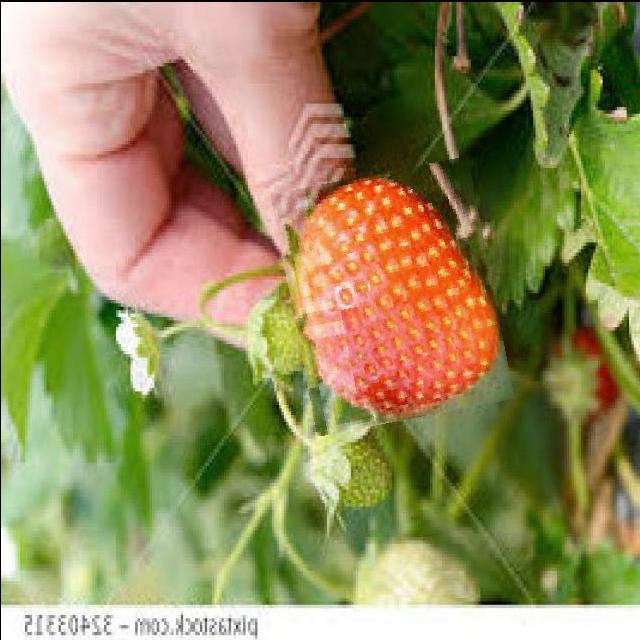strawberry: (280, 164, 502, 428)
